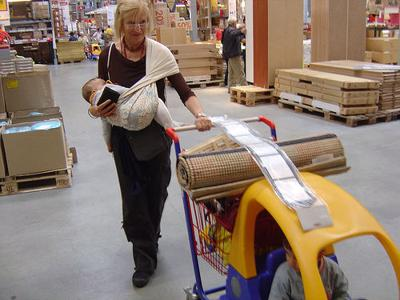person: (86, 1, 213, 291)
